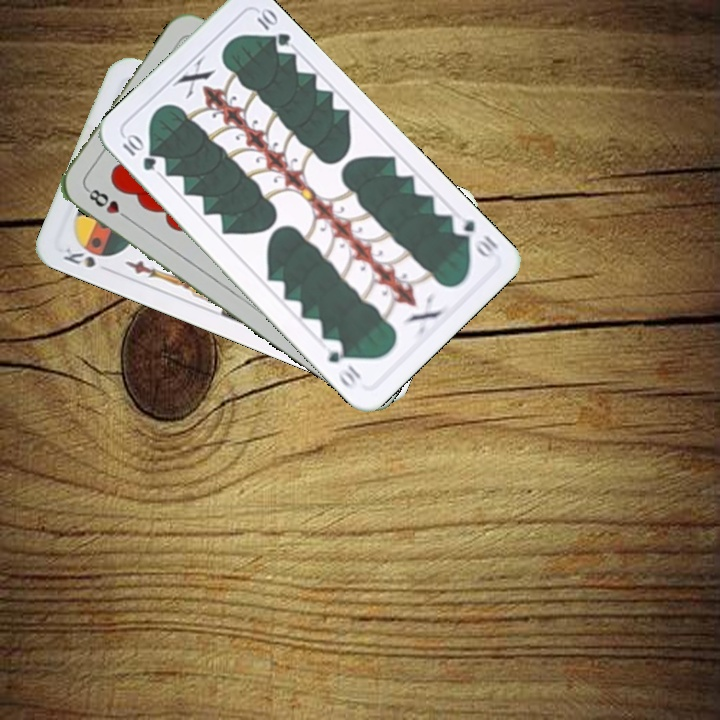G10: (447, 210, 502, 263), (118, 130, 159, 174)
H8: (82, 184, 134, 224)
SK: (59, 243, 115, 275)
